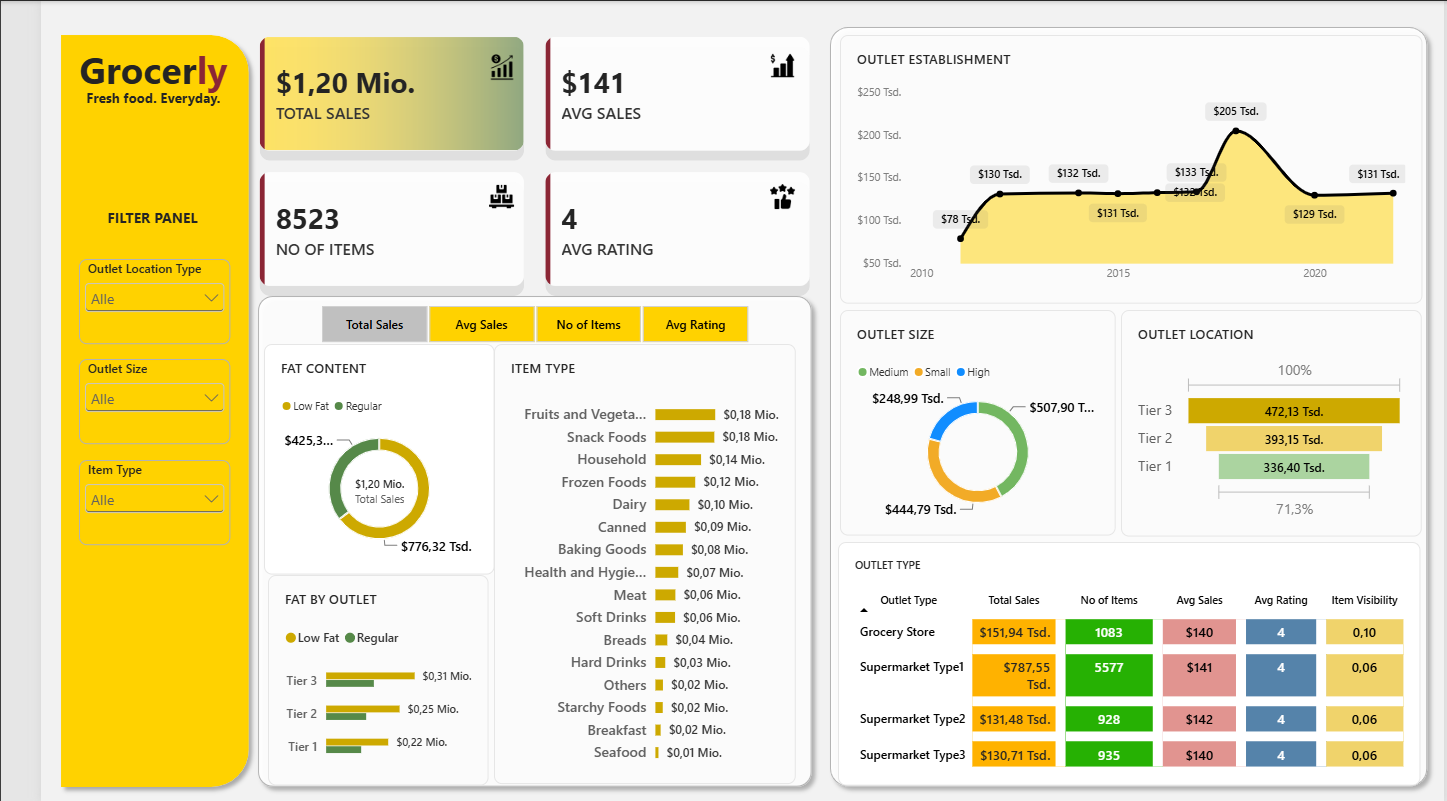

Layout of this report page (visuals, bound fields, positions):
{"tool":"powerbi","page":{"name":"Seite 1","canvas":[1400,800],"ordinal":0},"visuals":[{"type":"shape","box":[10.6,24.5,205.3,768.1],"z":0},{"type":"textbox","box":[33,42.6,158.5,71.3],"z":1000},{"type":"textbox","box":[32.9,86.8,158.6,26.9],"z":2000},{"type":"cardVisual","fields":{"Data":["BlinkIT Grocery Data.Total Sales","BlinkIT Grocery Data.Avg Sales","BlinkIT Grocery Data.No of Items","BlinkIT Grocery Data.Avg Rating"]},"box":[207.4,24.5,570,270],"z":3000},{"type":"image","box":[446.8,43.6,25.5,43.6],"z":4000},{"type":"image","box":[727.7,42.6,25,43],"z":5000},{"type":"image","box":[446.8,173.4,25,43],"z":6000},{"type":"image","box":[727.7,173.4,25,43],"z":7000},{"type":"shape","box":[207.4,285.1,570.2,507.4],"z":8000},{"type":"donutChart","title":"FAT CONTENT","fields":{"Category":["BlinkIT Grocery Data.Item Fat Content"],"Y":["BlinkIT Grocery Data.Total Sales"]},"box":[222.3,342.6,230,230],"z":9000},{"type":"slicer","fields":{"Values":["Metrics.Metrics"]},"box":[259.6,302.1,465,40],"z":10000},{"type":"cardVisual","fields":{"Data":["BlinkIT Grocery Data.Total Sales"]},"box":[296.8,457.4,94.7,63.8],"z":11000},{"type":"clusteredBarChart","title":"FAT BY OUTLET","fields":{"Category":["BlinkIT Grocery Data.Outlet Location Type"],"Series":["BlinkIT Grocery Data.Item Fat Content"],"Y":["BlinkIT Grocery Data.Total Sales"]},"box":[226.6,572.3,220,210],"z":12000},{"type":"barChart","title":"ITEM TYPE","fields":{"Category":["BlinkIT Grocery Data.Item Type"],"Y":["BlinkIT Grocery Data.Total Sales"]},"box":[452.1,342.6,301.1,439.4],"z":13000},{"type":"shape","box":[777.7,17,613.8,775.5],"z":14000},{"type":"lineChart","title":"OUTLET ESTABLISHMENT","fields":{"Category":["BlinkIT Grocery Data.Outlet Establishment Year"],"Y":["BlinkIT Grocery Data.Total Sales"]},"box":[796.8,34,580.9,268.1],"z":15000},{"type":"donutChart","title":"OUTLET SIZE","fields":{"Category":["BlinkIT Grocery Data.Outlet Size"],"Y":["BlinkIT Grocery Data.Total Sales"]},"box":[796.8,308.5,275,225],"z":16000},{"type":"funnel","title":"OUTLET LOCATION","fields":{"Category":["BlinkIT Grocery Data.Outlet Location Type"],"Y":["Sum(BlinkIT Grocery Data.Sales)"]},"box":[1077.7,308.5,300,225.5],"z":17000},{"type":"pivotTable","title":"OUTLET TYPE","fields":{"Rows":["BlinkIT Grocery Data.Outlet Type"],"Values":["BlinkIT Grocery Data.Total Sales","BlinkIT Grocery Data.No of Items","BlinkIT Grocery Data.Avg Sales","BlinkIT Grocery Data.Avg Rating","Avg(BlinkIT Grocery Data.Item Visibility)"]},"box":[794.7,539.4,580.9,242.6],"z":18000},{"type":"slicer","fields":{"Values":["BlinkIT Grocery Data.Outlet Location Type"]},"box":[38.3,257.4,151.1,85.1],"z":18001},{"type":"slicer","fields":{"Values":["BlinkIT Grocery Data.Outlet Size"]},"box":[38.3,357.4,151.1,85.1],"z":18002},{"type":"slicer","fields":{"Values":["BlinkIT Grocery Data.Item Type"]},"box":[38.3,457.4,151.1,85.1],"z":18003},{"type":"textbox","box":[42.9,206.5,136.7,22.9],"z":18004}]}

Visuals, with their boxes on the page's 1400x800 design canvas (x1, y1, x2, y2). These are canvas units, not pixel positions in the 1447x801 screenshot, which may show the page scaled, cropped or inside an application window:
shape: x1=11 y1=24 x2=216 y2=793
textbox: x1=33 y1=43 x2=192 y2=114
textbox: x1=33 y1=87 x2=192 y2=114
cardVisual - BlinkIT Grocery Data.Total Sales x BlinkIT Grocery Data.Avg Sales: x1=207 y1=24 x2=777 y2=294
image: x1=447 y1=44 x2=472 y2=87
image: x1=728 y1=43 x2=753 y2=86
image: x1=447 y1=173 x2=472 y2=216
image: x1=728 y1=173 x2=753 y2=216
shape: x1=207 y1=285 x2=778 y2=792
"FAT CONTENT" donutChart: x1=222 y1=343 x2=452 y2=573
slicer - Metrics.Metrics: x1=260 y1=302 x2=725 y2=342
cardVisual - BlinkIT Grocery Data.Total Sales: x1=297 y1=457 x2=392 y2=521
"FAT BY OUTLET" clusteredBarChart: x1=227 y1=572 x2=447 y2=782
"ITEM TYPE" barChart: x1=452 y1=343 x2=753 y2=782
shape: x1=778 y1=17 x2=1392 y2=792
"OUTLET ESTABLISHMENT" lineChart: x1=797 y1=34 x2=1378 y2=302
"OUTLET SIZE" donutChart: x1=797 y1=308 x2=1072 y2=534
"OUTLET LOCATION" funnel: x1=1078 y1=308 x2=1378 y2=534
"OUTLET TYPE" pivotTable: x1=795 y1=539 x2=1376 y2=782
slicer - BlinkIT Grocery Data.Outlet Location Type: x1=38 y1=257 x2=189 y2=342
slicer - BlinkIT Grocery Data.Outlet Size: x1=38 y1=357 x2=189 y2=442
slicer - BlinkIT Grocery Data.Item Type: x1=38 y1=457 x2=189 y2=542
textbox: x1=43 y1=206 x2=180 y2=229
